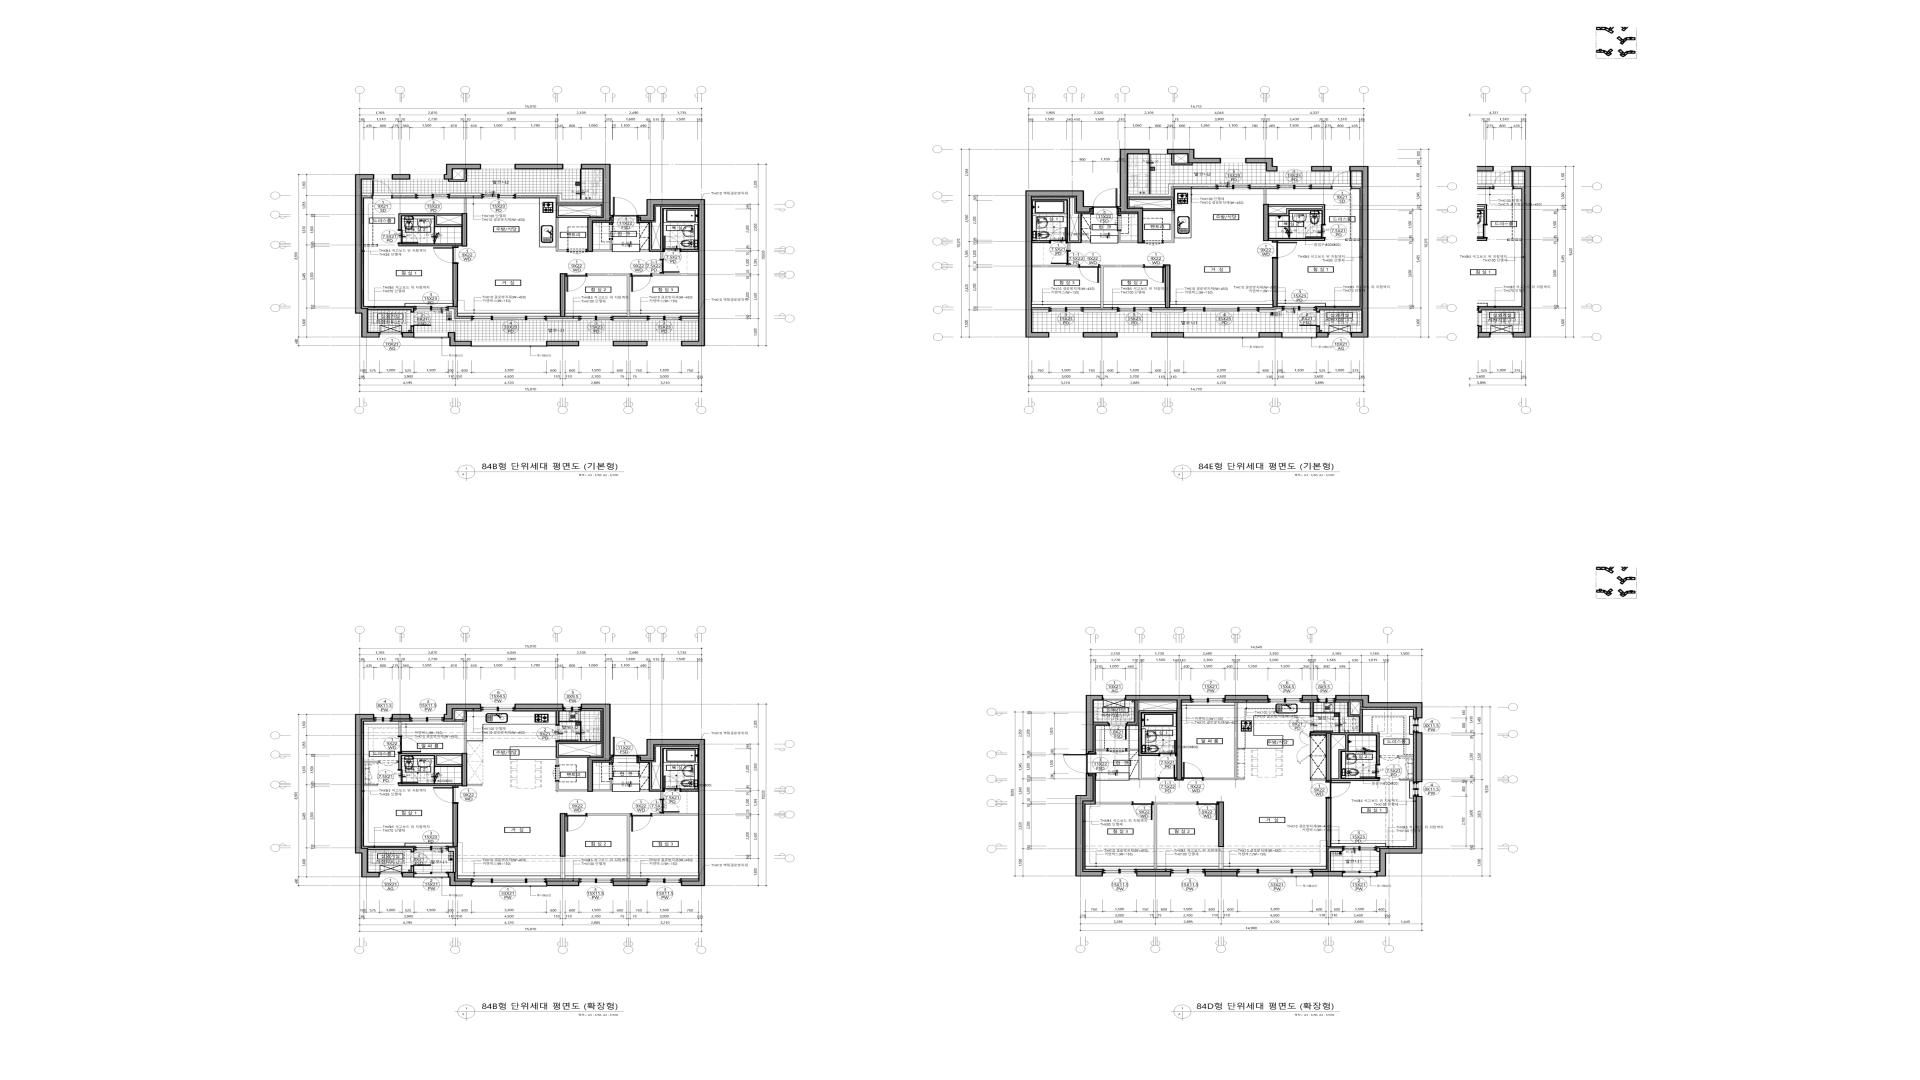door: (1092, 189, 1118, 215), (1063, 754, 1097, 774), (613, 196, 637, 218), (433, 786, 459, 804), (613, 737, 637, 757), (1325, 781, 1350, 799), (1271, 241, 1298, 258), (433, 247, 459, 264), (1143, 264, 1164, 284), (1079, 264, 1100, 284), (1182, 762, 1204, 781), (397, 736, 421, 753), (1197, 802, 1218, 820), (1133, 802, 1154, 820), (630, 814, 651, 832), (566, 814, 587, 832), (630, 273, 651, 291), (566, 273, 587, 291), (372, 181, 393, 199), (1309, 716, 1333, 732), (555, 725, 579, 741), (1332, 171, 1352, 190), (1109, 723, 1127, 740), (410, 852, 431, 866), (397, 769, 418, 783), (1299, 311, 1320, 326), (397, 229, 418, 244), (1050, 227, 1067, 244), (1159, 740, 1176, 757), (663, 775, 680, 793), (1158, 765, 1176, 781), (659, 799, 679, 814), (1305, 224, 1325, 239), (1051, 251, 1071, 265), (659, 260, 679, 274), (1360, 765, 1381, 778), (663, 236, 680, 252), (1108, 748, 1126, 754), (1379, 756, 1399, 761), (609, 764, 616, 779), (378, 761, 398, 766), (1143, 240, 1163, 245), (567, 249, 587, 255), (553, 766, 559, 781)
wall: (637, 199, 705, 347), (637, 738, 705, 886), (1026, 190, 1092, 338), (1125, 695, 1191, 781), (355, 174, 380, 338), (355, 713, 380, 877), (1332, 702, 1379, 781), (1377, 796, 1423, 877), (1126, 711, 1176, 781), (1349, 166, 1369, 338), (1204, 703, 1245, 781), (640, 746, 699, 799), (1033, 198, 1091, 251), (1118, 149, 1150, 244), (1154, 802, 1197, 869), (580, 164, 613, 252), (580, 704, 613, 793), (587, 814, 630, 878), (1076, 774, 1102, 877), (640, 207, 699, 252), (555, 204, 601, 252), (1336, 695, 1423, 719), (587, 274, 630, 316), (1101, 265, 1143, 307), (1127, 183, 1216, 196), (555, 741, 601, 766), (1269, 204, 1325, 224), (1085, 695, 1104, 754), (398, 214, 462, 229), (398, 753, 462, 769), (516, 193, 603, 202), (1167, 149, 1221, 162), (443, 164, 481, 179), (443, 704, 481, 720), (1129, 198, 1174, 210), (455, 711, 467, 753), (1245, 158, 1278, 171), (1163, 211, 1175, 243), (448, 332, 472, 347), (448, 872, 472, 886), (1328, 848, 1342, 872), (1416, 732, 1423, 782), (1325, 732, 1332, 781), (556, 781, 587, 791), (1325, 799, 1332, 847), (448, 309, 471, 322), (559, 273, 566, 316), (1164, 265, 1171, 309), (559, 814, 566, 857), (514, 164, 563, 169), (1273, 258, 1278, 307), (514, 704, 563, 709), (448, 169, 467, 182), (1171, 154, 1193, 165), (1218, 802, 1224, 847), (1118, 231, 1138, 243), (452, 264, 458, 307), (1225, 695, 1269, 700), (1269, 237, 1325, 241), (452, 804, 458, 847), (1127, 700, 1137, 724), (593, 779, 612, 791), (593, 240, 612, 252), (1263, 204, 1269, 241), (1083, 332, 1118, 338), (448, 848, 456, 872), (368, 307, 414, 311), (1316, 307, 1362, 311), (368, 848, 414, 852), (613, 342, 647, 347), (613, 881, 647, 886), (1137, 872, 1171, 877), (546, 342, 579, 347), (462, 214, 467, 247), (1151, 332, 1184, 338), (462, 753, 467, 786), (546, 881, 579, 886), (1205, 872, 1238, 877), (398, 244, 462, 247), (398, 783, 462, 786), (1312, 872, 1342, 877), (1258, 332, 1283, 338), (651, 814, 699, 816), (392, 713, 410, 720), (1033, 265, 1079, 268), (1218, 847, 1224, 869), (1311, 166, 1332, 171), (392, 174, 410, 179), (1096, 802, 1131, 804), (613, 319, 647, 322), (1259, 309, 1282, 313), (1151, 310, 1184, 313), (1084, 310, 1117, 313), (450, 193, 481, 195), (560, 857, 564, 878), (1302, 695, 1317, 700), (547, 319, 579, 322), (1250, 183, 1278, 186), (1316, 332, 1329, 338), (402, 332, 414, 338), (1263, 189, 1267, 204), (402, 872, 414, 877), (651, 274, 699, 276), (393, 193, 415, 195), (555, 711, 559, 725), (1311, 732, 1325, 736), (1312, 183, 1332, 186), (680, 789, 699, 791), (680, 249, 699, 252), (1033, 240, 1050, 243), (361, 193, 372, 196), (1033, 310, 1048, 313), (1093, 721, 1109, 724), (682, 319, 698, 322), (398, 721, 401, 736), (1311, 702, 1313, 716), (1352, 183, 1362, 186), (410, 326, 414, 332), (1316, 326, 1320, 332), (410, 866, 414, 872), (661, 252, 663, 260), (1399, 756, 1414, 757), (1399, 779, 1414, 781), (1311, 779, 1325, 781), (364, 761, 378, 762), (364, 785, 377, 786), (1096, 749, 1108, 750), (1377, 848, 1379, 852), (609, 762, 613, 764), (1118, 214, 1121, 215), (609, 223, 612, 224)
window: (1238, 869, 1312, 877), (1184, 332, 1258, 339), (471, 315, 547, 320), (1184, 307, 1259, 313), (472, 878, 546, 884), (472, 342, 546, 347), (472, 884, 546, 887), (579, 878, 613, 886), (1191, 695, 1225, 703), (647, 878, 680, 886), (481, 704, 514, 712), (1269, 695, 1302, 703), (414, 872, 448, 878), (1171, 869, 1205, 876), (1342, 870, 1377, 877), (1102, 869, 1137, 876), (414, 332, 448, 339), (1283, 332, 1316, 339), (410, 715, 443, 721), (1048, 307, 1084, 313), (647, 315, 682, 320), (579, 315, 613, 320), (414, 845, 448, 851), (1117, 307, 1151, 313), (1282, 306, 1316, 311), (1278, 185, 1312, 190), (1216, 185, 1250, 190), (414, 306, 448, 311), (481, 194, 516, 199), (415, 194, 450, 199), (1278, 166, 1311, 171), (1118, 332, 1151, 338), (1050, 332, 1083, 338), (410, 174, 443, 179), (1317, 695, 1336, 703), (1342, 847, 1377, 851), (563, 704, 580, 712), (579, 342, 613, 345), (1412, 782, 1422, 796), (647, 342, 680, 345), (481, 165, 514, 169), (1221, 158, 1245, 164), (1412, 719, 1422, 732), (380, 872, 402, 877), (380, 332, 402, 338), (375, 715, 392, 721), (1329, 332, 1350, 338), (1104, 695, 1125, 700), (1332, 166, 1349, 171), (1150, 149, 1167, 154), (375, 174, 392, 179), (563, 165, 580, 169)
